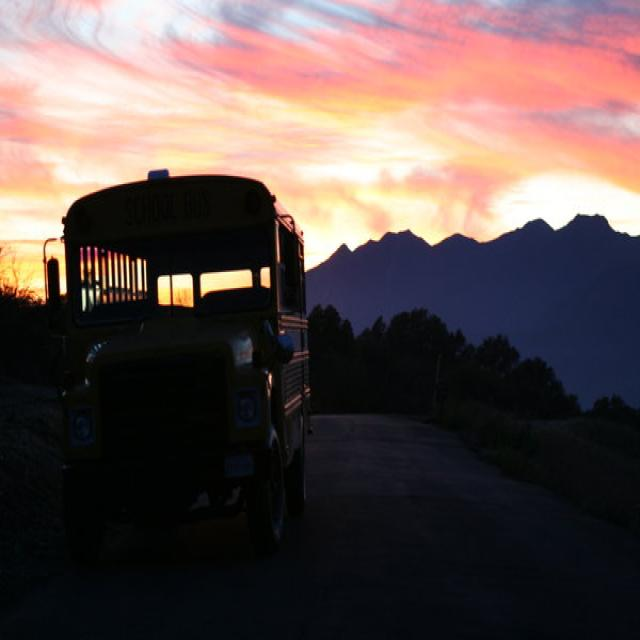Bus: (14, 143, 326, 573)
